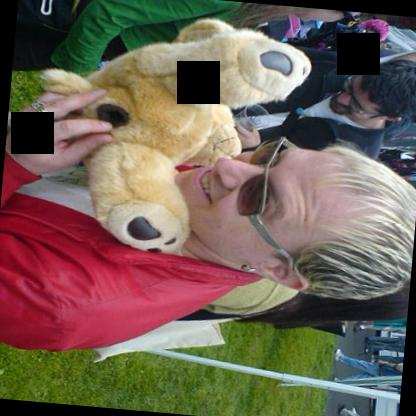handbag: (14, 0, 90, 40)
